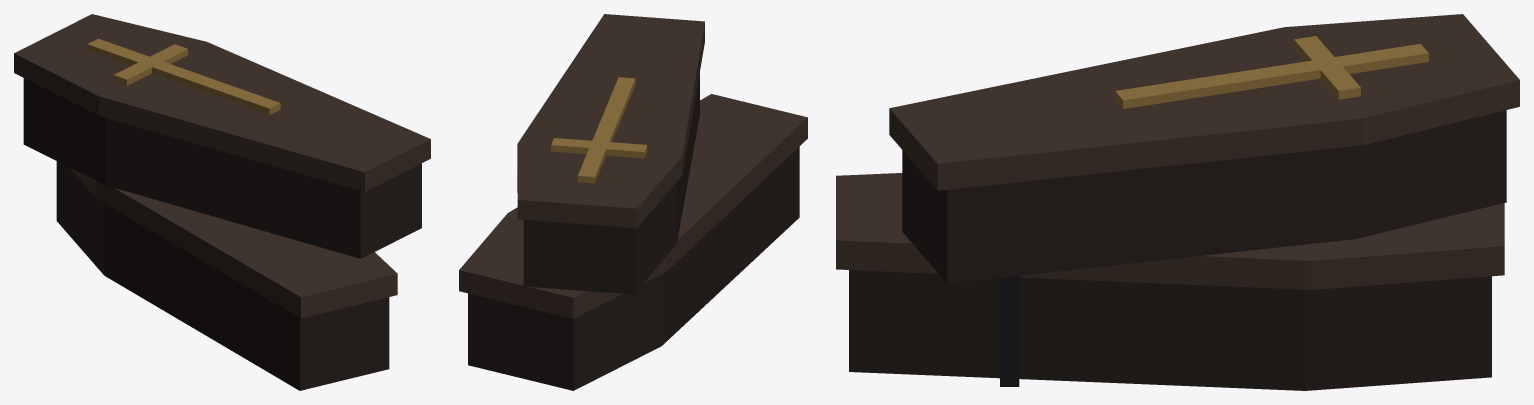
Rendered from gothic_coffin.glb.
The picture shows the model from 3 angles, left to right: view 1: azimuth 30°, elevation 25°; view 2: azimuth 150°, elevation 25°; view 3: azimuth 270°, elevation 25°; orthographic projection. The views are drawn at different scales.
Parts seen in each view (by area): view 1: gothic_coffin; view 2: gothic_coffin; view 3: gothic_coffin.
Part boxes in pixels (x1,y1,x2,y2): gothic_coffin: (14,14,430,390); gothic_coffin: (459,14,807,390); gothic_coffin: (836,14,1519,390).
Bounding box in the file's own units: 1.1 × 0.9132 × 2.13.
